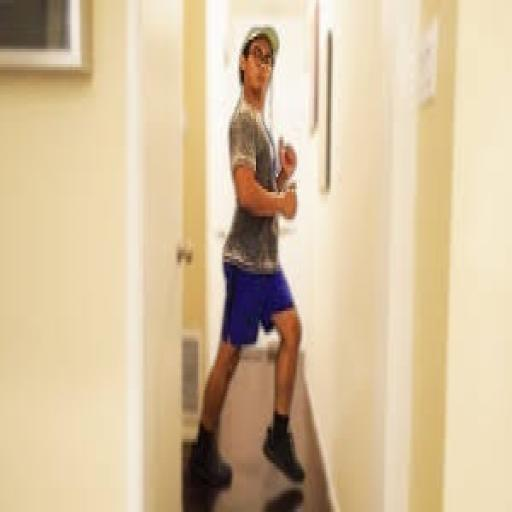running: (188, 21, 309, 494)
